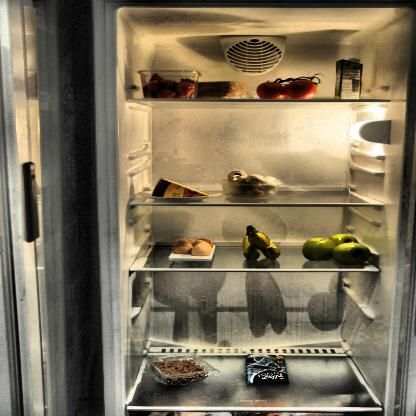apple: (302, 232, 375, 267)
banana: (236, 225, 283, 260)
cheese: (150, 178, 213, 196)
chocolate: (246, 353, 291, 386)
eggs: (172, 236, 214, 258)
heavy_cream: (333, 58, 367, 102)
mushrooms: (225, 170, 279, 199)
shrimp: (150, 357, 210, 381)
strawberries: (138, 72, 198, 101)
tomato: (256, 79, 317, 100)
